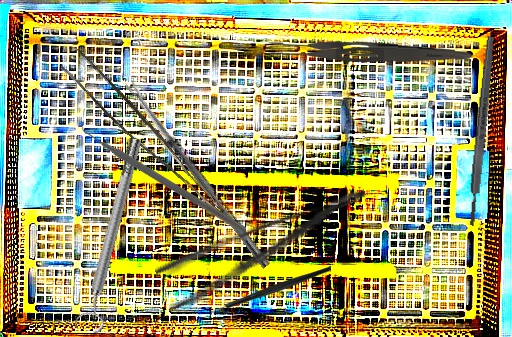Chopper: (81, 114, 246, 233), (208, 266, 331, 321)
Dressing Forceps: (152, 184, 382, 315), (267, 38, 471, 64)
Fixation Ring: (70, 135, 154, 335)
Scalpel Handle: (466, 35, 497, 227)
Surgical Spoon: (124, 79, 272, 269)
Tissue Forceps: (56, 48, 242, 216)
